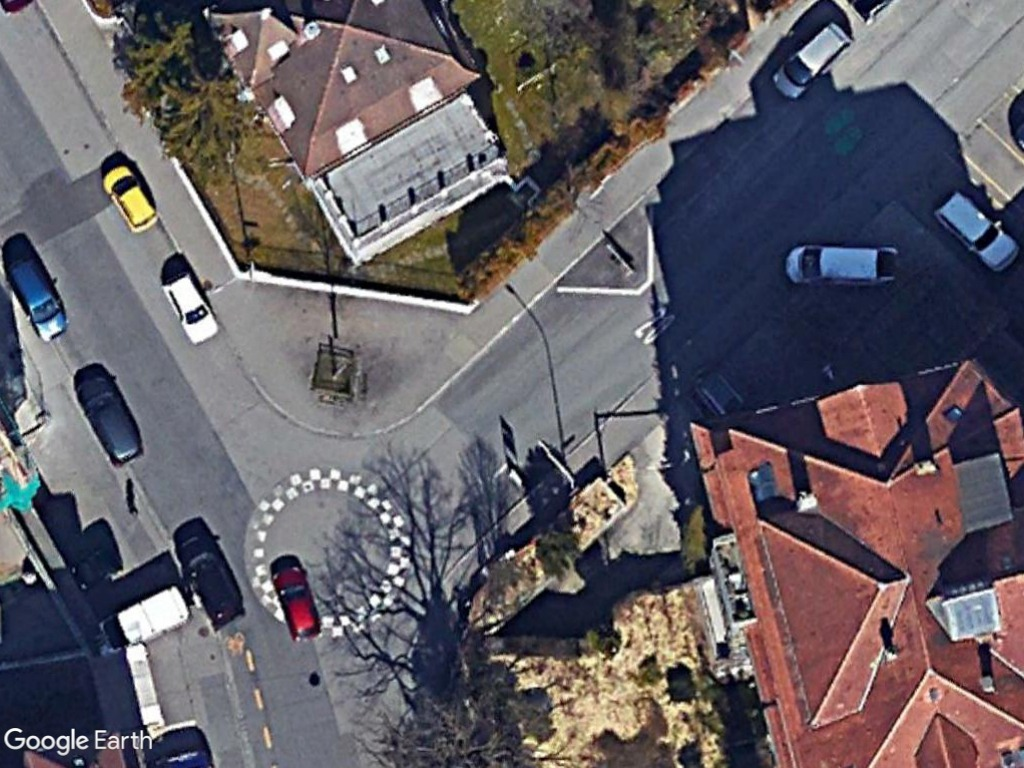car: (928, 186, 1021, 274), (769, 17, 853, 102), (77, 372, 146, 467), (4, 247, 72, 340), (785, 243, 904, 288), (100, 161, 161, 237), (271, 560, 325, 644), (162, 271, 221, 347)
